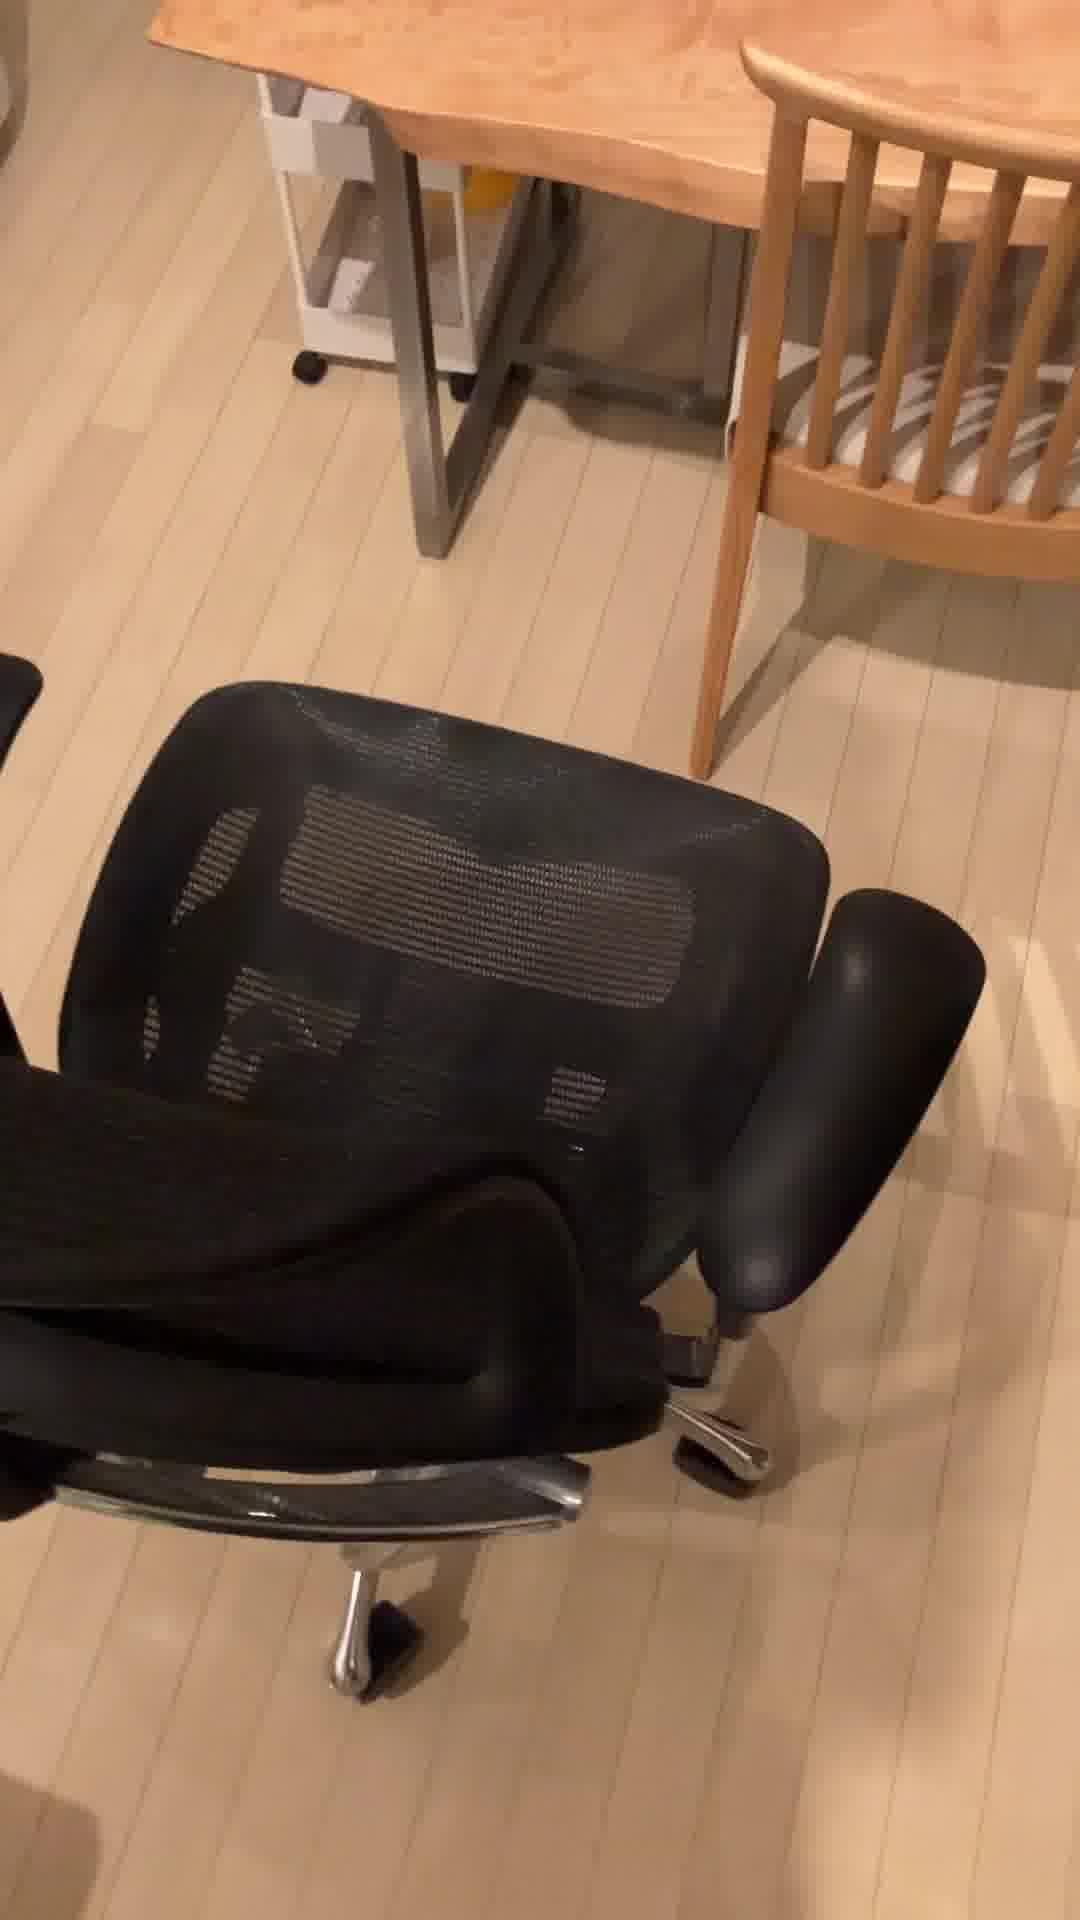okamura-contessa: (0, 645, 992, 1706)
